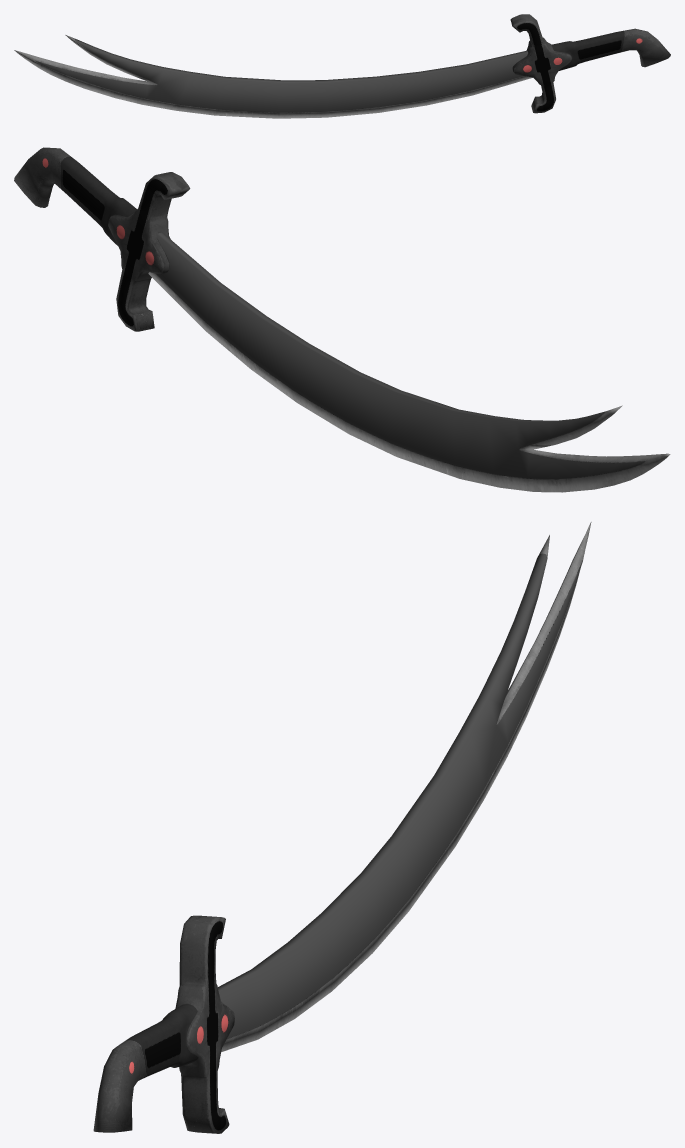
The model's file is Zulfiqar_Sword.glb.
3 views of the same model, one above another, from view 1: azimuth 30°, elevation 25°; view 2: azimuth 150°, elevation 25°; view 3: azimuth 270°, elevation 25° (orthographic). The views are drawn at different scales.
Parts seen in each view (by area): view 1: Cube.002; view 2: Cube.002; view 3: Cube.002.
Part boxes in pixels (bbox=[...]): Cube.002: bbox=[14, 14, 670, 118]; Cube.002: bbox=[14, 147, 670, 492]; Cube.002: bbox=[93, 522, 591, 1133].
Size of the model in its own units: 4.16 by 0.8081 by 1.68.
1 material, 1 textured.
